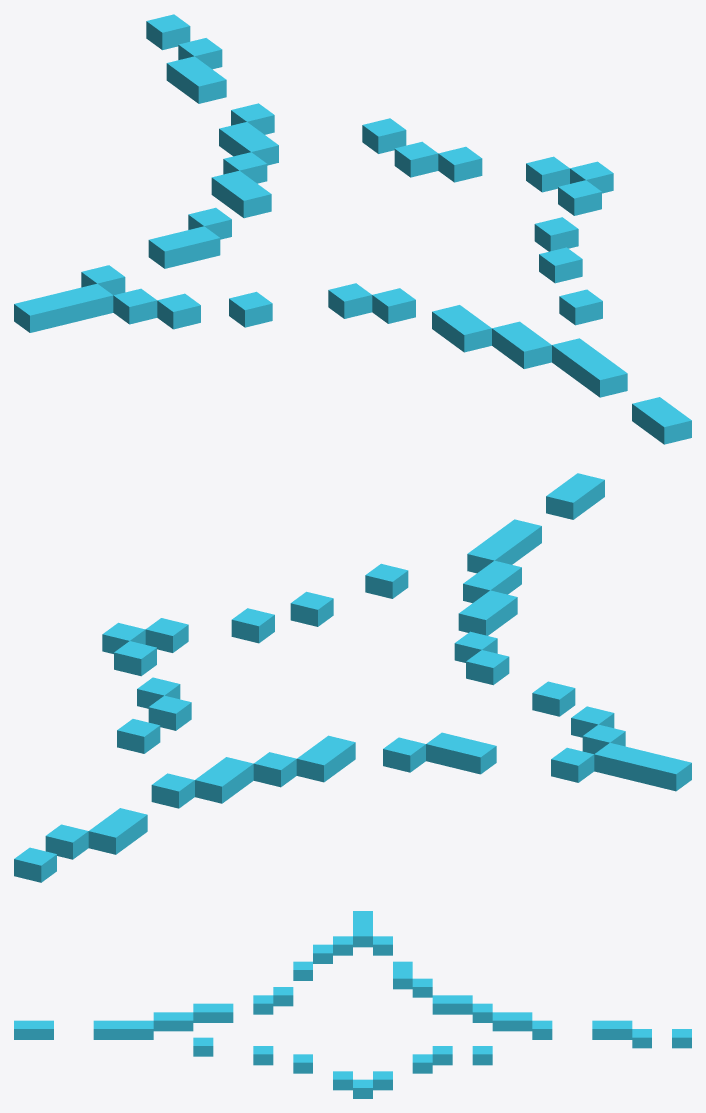
Rendered from counterspell_blue.obj.
3 renders of one model, top to bottom at view 1: azimuth 30°, elevation 25°; view 2: azimuth 150°, elevation 25°; view 3: azimuth 270°, elevation 25°, orthographic. The views are drawn at different scales.
Parts seen in each view (by area): view 1: counterspell-blue-og.bmp; view 2: counterspell-blue-og.bmp; view 3: counterspell-blue-og.bmp.
Part boxes in pixels (<box>): counterspell-blue-og.bmp: <box>14,14,691,444</box>; counterspell-blue-og.bmp: <box>14,473,691,882</box>; counterspell-blue-og.bmp: <box>14,911,691,1098</box>.
Bounding box in the file's own units: 2.1 × 0.06 × 3.4.
